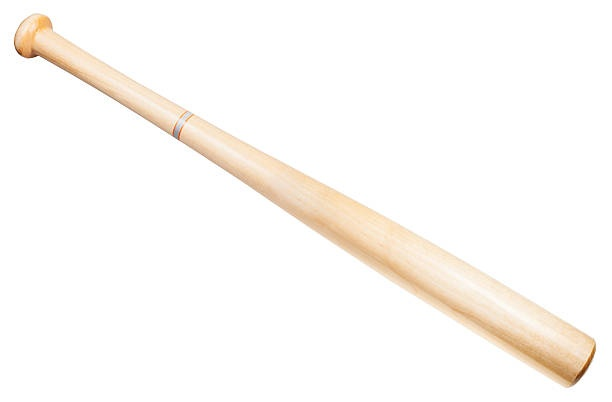bita: (13, 21, 585, 379)
